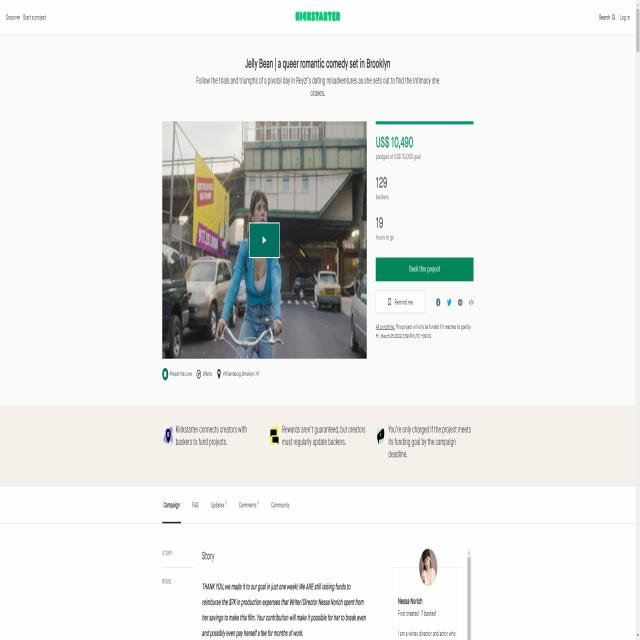tab-bar: (160, 493, 294, 522)
